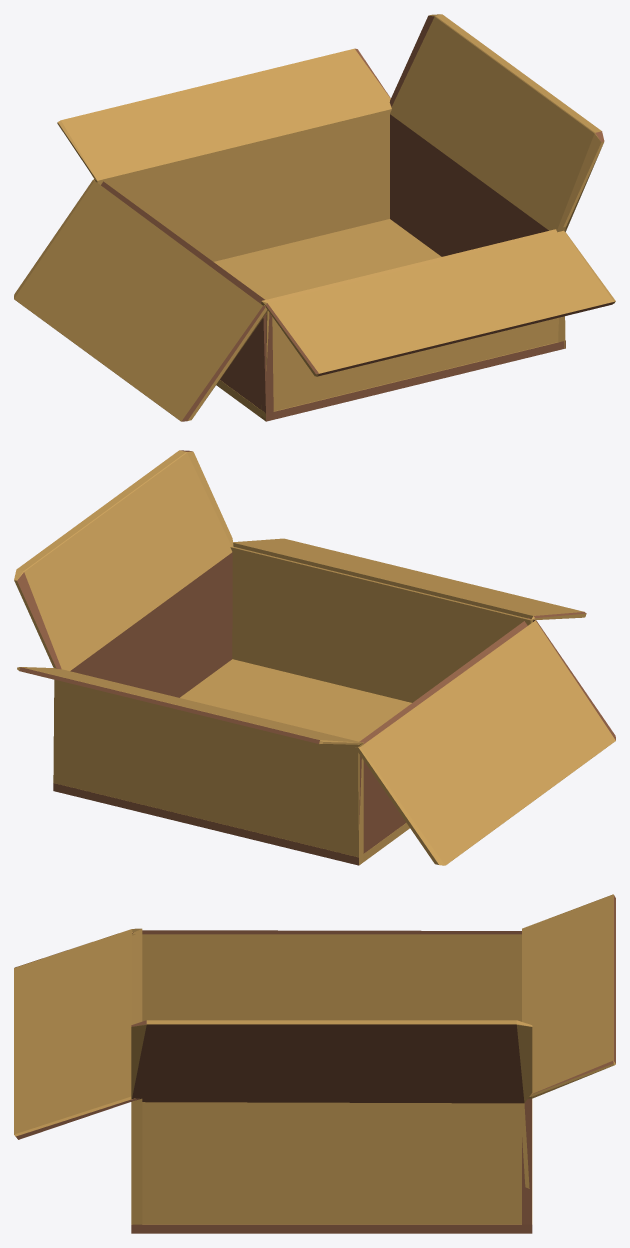
File: CardboardBox.fbx
The picture shows the model from 3 angles, top to bottom: view 1: azimuth 30°, elevation 25°; view 2: azimuth 150°, elevation 25°; view 3: azimuth 270°, elevation 25°; orthographic projection. The views are drawn at different scales.
Parts seen in each view (by area): view 1: Cube; view 2: Cube; view 3: Cube.
Part boxes in pixels (x1,y1,x2,y2): Cube: [14, 14, 615, 421]; Cube: [14, 450, 615, 865]; Cube: [14, 894, 615, 1233].
Size of the model in its own units: 310 by 141 by 329.
